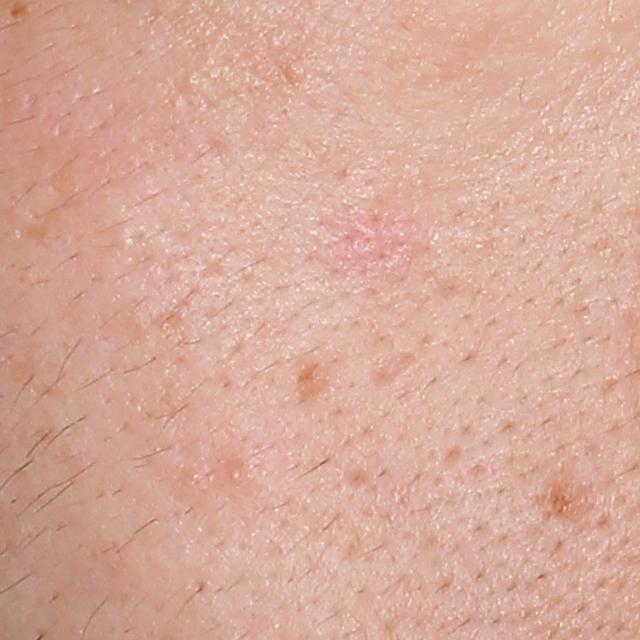atrophic_scar: (361, 349, 423, 396), (340, 463, 374, 495)
comedo: (225, 468, 245, 484)
